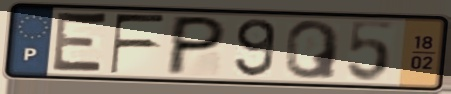5: (344, 18, 400, 85)
9: (233, 17, 279, 79)
E: (48, 8, 111, 77)
F: (108, 12, 169, 76)
P: (162, 13, 231, 77)
Q: (282, 18, 343, 81)
